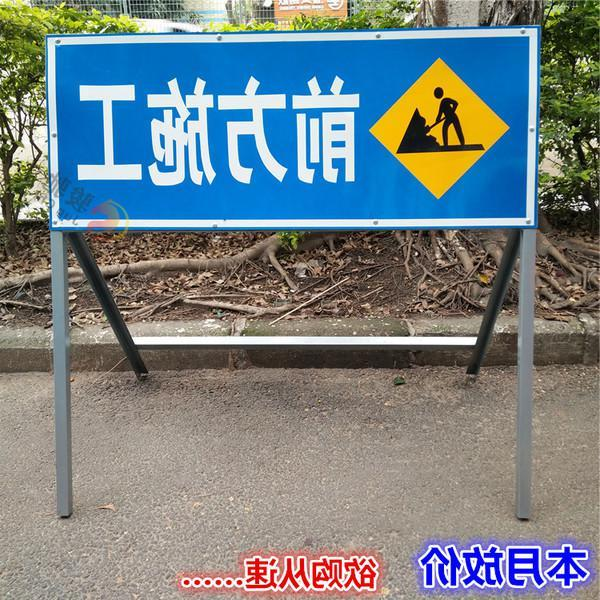sign: (42, 25, 541, 229)
